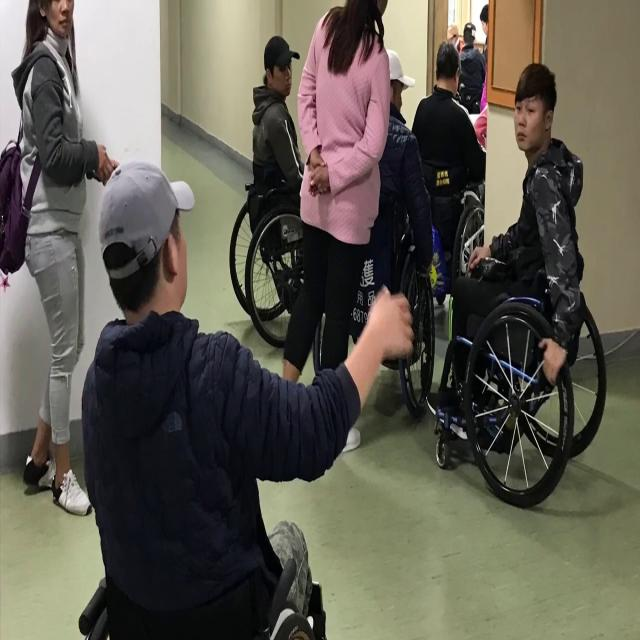wheelchairs: (424, 266, 615, 512), (217, 133, 348, 354), (305, 211, 441, 420)
